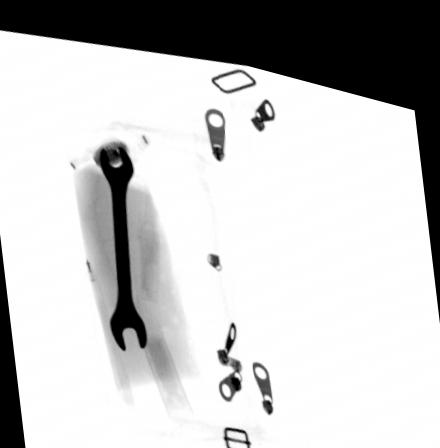Wrench: (97, 136, 148, 346)
